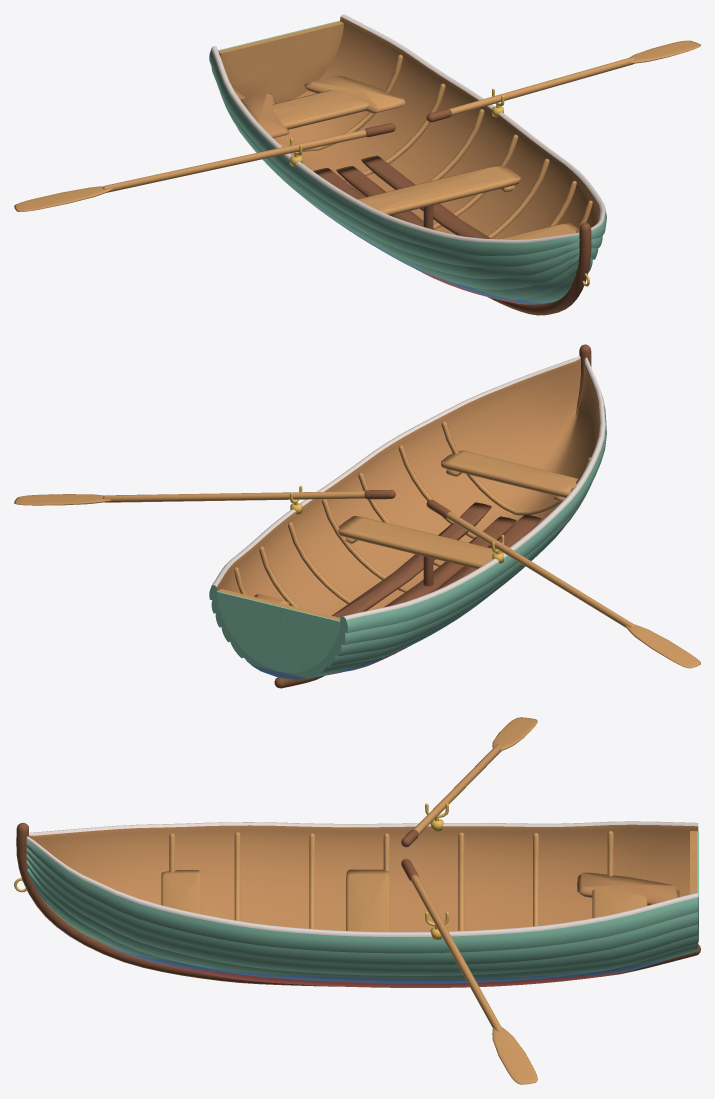
Rendered from small-wreck-boat.glb.
3 renders of one model, top to bottom at view 1: azimuth 30°, elevation 25°; view 2: azimuth 150°, elevation 25°; view 3: azimuth 270°, elevation 25°, orthographic. The views are drawn at different scales.
Visible parts, largest first — view 1: rowboat_body, rowboat_oar_starboard, rowboat_oar_port; view 2: rowboat_body, rowboat_oar_port, rowboat_oar_starboard; view 3: rowboat_body, rowboat_oar_port, rowboat_oar_starboard.
Boxes of the visible parts, box(x1,y1,x2,y2) form: rowboat_body: box(209, 14, 606, 315); rowboat_oar_starboard: box(14, 123, 395, 211); rowboat_oar_port: box(426, 40, 700, 122); rowboat_body: box(209, 344, 606, 688); rowboat_oar_port: box(14, 490, 395, 505); rowboat_oar_starboard: box(426, 499, 700, 668); rowboat_body: box(14, 803, 700, 987); rowboat_oar_port: box(401, 859, 537, 1084); rowboat_oar_starboard: box(401, 717, 537, 847).
Size of the model in its own units: 4.66 by 0.9632 by 3.68.
7 materials, 1 textured.
